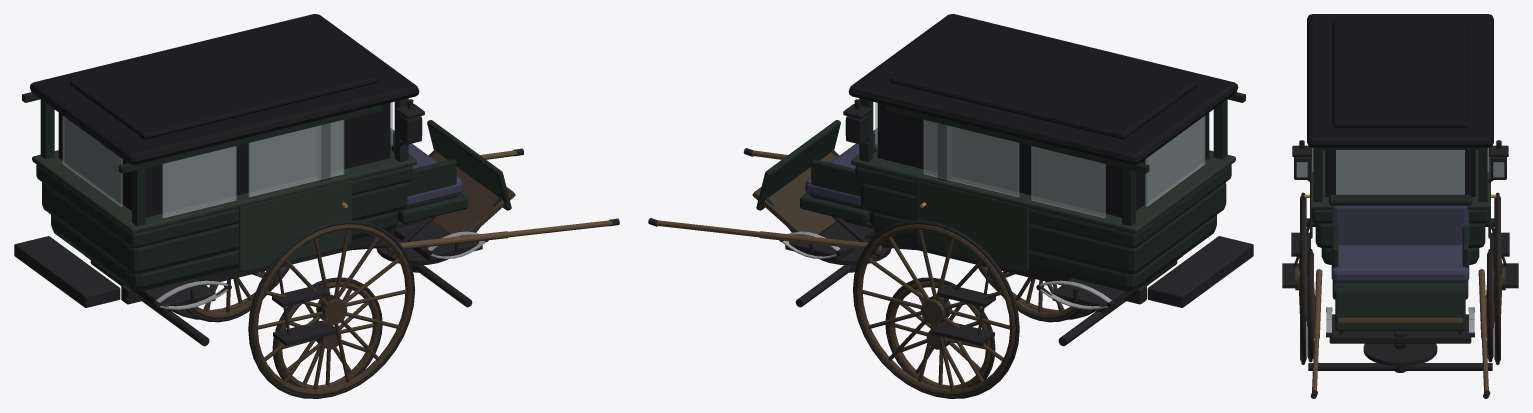
File: exhibition-carriage.glb
The picture shows the model from 3 angles, left to right: view 1: azimuth 30°, elevation 25°; view 2: azimuth 150°, elevation 25°; view 3: azimuth 270°, elevation 25°; orthographic projection. The views are drawn at different scales.
Parts seen in each view (by area): view 1: RoofCrown, Interior, Roof, BodyMid, DoorPanel-1, WaistRail, GlassDoor-1, GlassQuarter-1, BodyWaist, BodyLower, RearBoot, WheelRearR_felloe (+27 smaller); view 2: RoofCrown, Interior, Roof, BodyMid, WaistRail, DoorPanel1, GlassDoor1, GlassQuarter1, BodyWaist, BodyLower, RearBoot, WheelRearL_felloe (+27 smaller); view 3: RoofCrown, Roof, Interior, GlassFront, BoxBack, BoxSeat, Dashboard, FrontBed, BoxBackTop, FifthWheel, FrontAxle, BoxFrame (+28 smaller).
Part boxes in pixels (x1=…): RoofCrown: x1=70, y1=24, x2=378, y2=139; Interior: x1=58, y1=103, x2=390, y2=217; Roof: x1=29, y1=14, x2=419, y2=164; BodyMid: x1=42, y1=182, x2=407, y2=274; DoorPanel-1: x1=239, y1=180, x2=351, y2=270; WaistRail: x1=32, y1=150, x2=416, y2=233; GlassDoor-1: x1=248, y1=120, x2=344, y2=196; GlassQuarter-1: x1=162, y1=146, x2=236, y2=217; BodyWaist: x1=36, y1=165, x2=412, y2=248; BodyLower: x1=51, y1=211, x2=397, y2=291; RearBoot: x1=14, y1=236, x2=120, y2=307; WheelRearR_felloe: x1=252, y1=224, x2=412, y2=396; RoofCrown: x1=889, y1=24, x2=1197, y2=139; Interior: x1=877, y1=103, x2=1209, y2=217; Roof: x1=848, y1=14, x2=1238, y2=164; BodyMid: x1=860, y1=182, x2=1226, y2=274; WaistRail: x1=851, y1=150, x2=1235, y2=233; DoorPanel1: x1=916, y1=180, x2=1028, y2=270; GlassDoor1: x1=923, y1=120, x2=1019, y2=196; GlassQuarter1: x1=1031, y1=146, x2=1105, y2=217; BodyWaist: x1=855, y1=164, x2=1231, y2=248; BodyLower: x1=870, y1=211, x2=1216, y2=291; RearBoot: x1=1147, y1=236, x2=1253, y2=307; WheelRearL_felloe: x1=855, y1=224, x2=1015, y2=396; RoofCrown: x1=1332, y1=20, x2=1468, y2=127; Roof: x1=1307, y1=14, x2=1493, y2=147; Interior: x1=1325, y1=150, x2=1475, y2=196; GlassFront: x1=1336, y1=150, x2=1464, y2=194; BoxBack: x1=1331, y1=205, x2=1469, y2=245; BoxSeat: x1=1331, y1=245, x2=1469, y2=282; Dashboard: x1=1335, y1=290, x2=1465, y2=331; FrontBed: x1=1329, y1=314, x2=1471, y2=343; BoxBackTop: x1=1329, y1=194, x2=1471, y2=205; FifthWheel: x1=1363, y1=343, x2=1437, y2=366; FrontAxle: x1=1308, y1=363, x2=1492, y2=370; BoxFrame: x1=1332, y1=281, x2=1468, y2=299.
Size of the model in its own units: 4.41 by 2.35 by 1.92.
